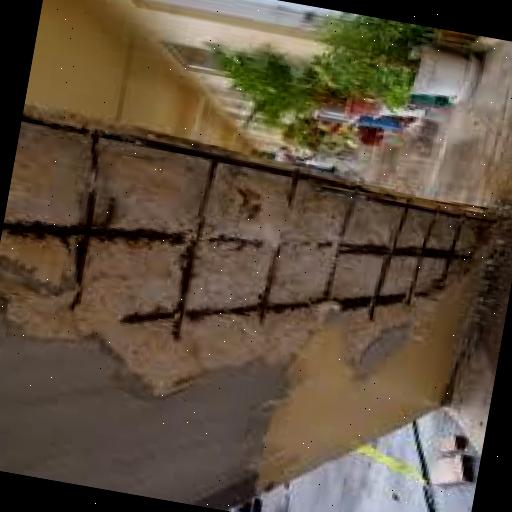spalling: (0, 103, 499, 393)
